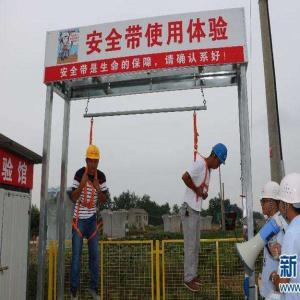blue: (209, 142, 229, 173)
white: (278, 173, 300, 223), (259, 181, 282, 220)
yellow: (85, 145, 102, 175)
